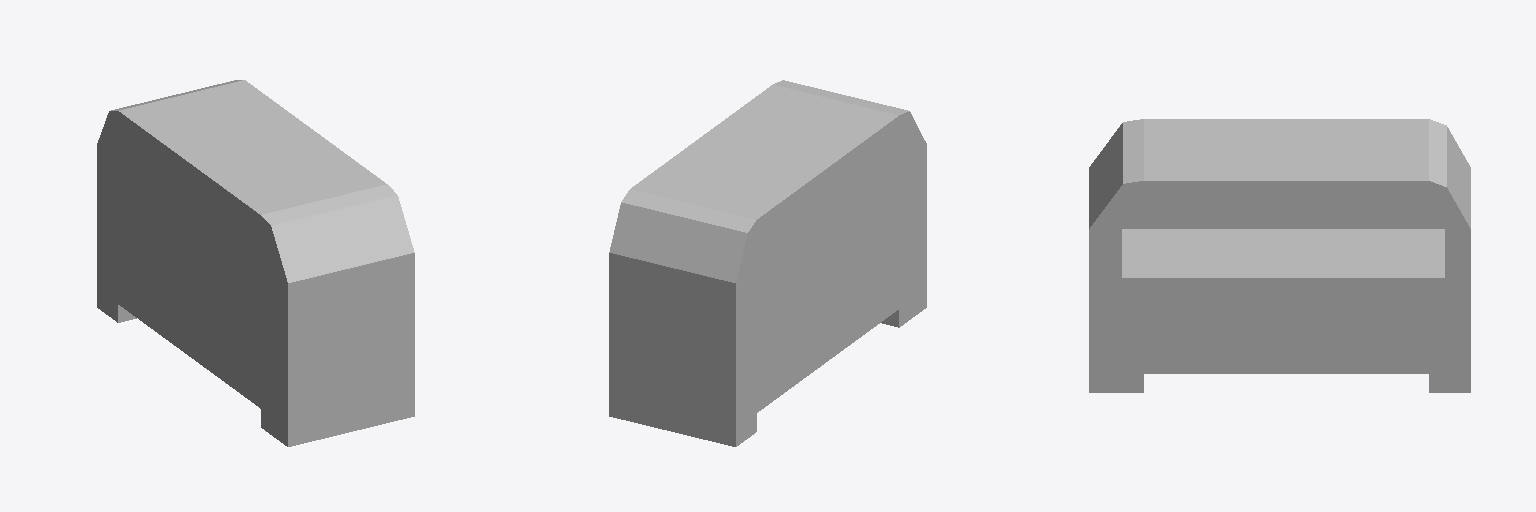
File: TV_Stand.obj
3 renders of one model, left to right at view 1: azimuth 30°, elevation 25°; view 2: azimuth 150°, elevation 25°; view 3: azimuth 270°, elevation 25°, orthographic.
Parts seen in each view (by area): view 1: Cube; view 2: Cube; view 3: Cube.
Part boxes in pixels (bbox=[...]): Cube: bbox=[97, 80, 414, 446]; Cube: bbox=[609, 80, 926, 446]; Cube: bbox=[1089, 119, 1470, 392].
Bounding box in the file's own units: 2.45 × 3.92 × 6.39.